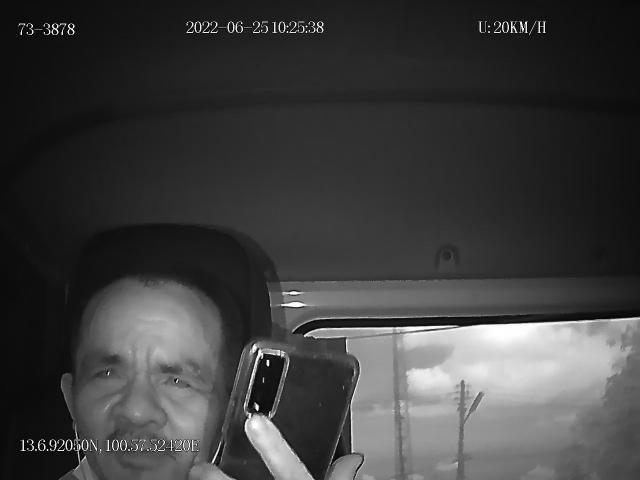PhoneUse: (218, 336, 359, 480)
SafeDriving: (156, 360, 205, 398), (84, 354, 128, 390)
